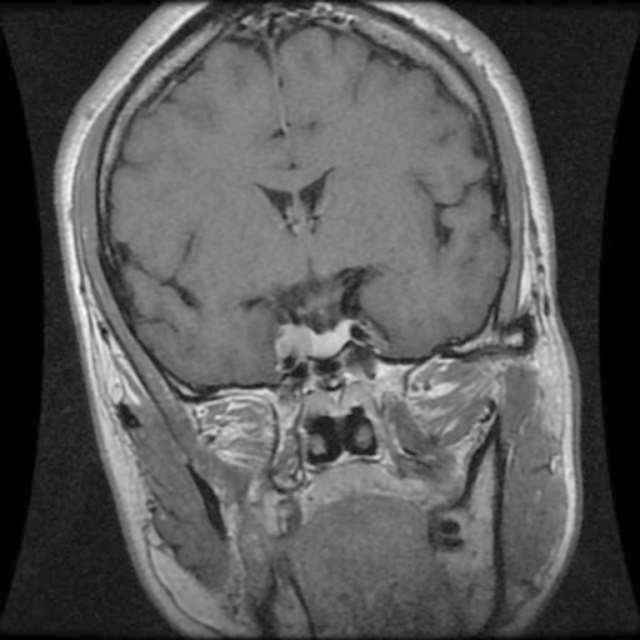no tumor: (273, 320, 375, 361)
